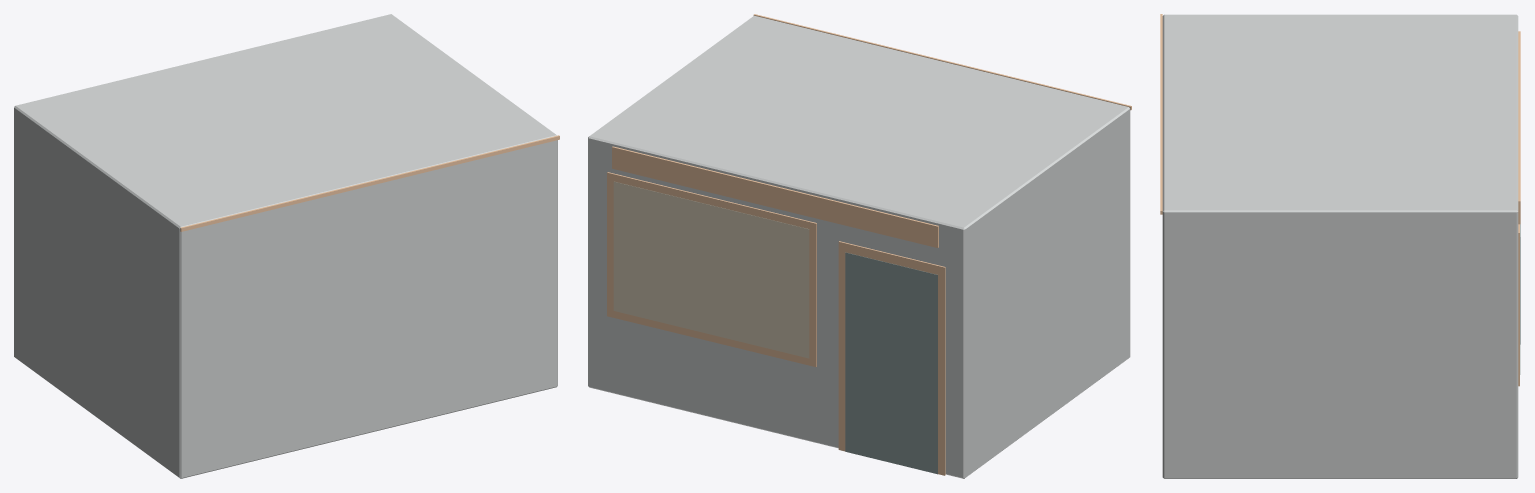
Rendered from shopfront.glb.
The picture shows the model from 3 angles, left to right: view 1: azimuth 30°, elevation 25°; view 2: azimuth 150°, elevation 25°; view 3: azimuth 270°, elevation 25°; orthographic projection. The views are drawn at different scales.
Visible parts, largest first — view 1: carpetWhite, wood; view 2: carpetWhite, wood, glass, metalDark; view 3: carpetWhite, wood.
Part boxes in pixels (left/top/right/bottom): carpetWhite: left=14, top=14, right=557, bottom=478; wood: left=180, top=135, right=559, bottom=231; carpetWhite: left=588, top=15, right=1130, bottom=478; wood: left=607, top=14, right=1131, bottom=475; glass: left=613, top=181, right=809, bottom=358; metalDark: left=845, top=252, right=937, bottom=474; carpetWhite: left=1162, top=14, right=1518, bottom=478; wood: left=1160, top=14, right=1520, bottom=386.
Size of the model in its own units: 2 by 1.27 by 1.55.
